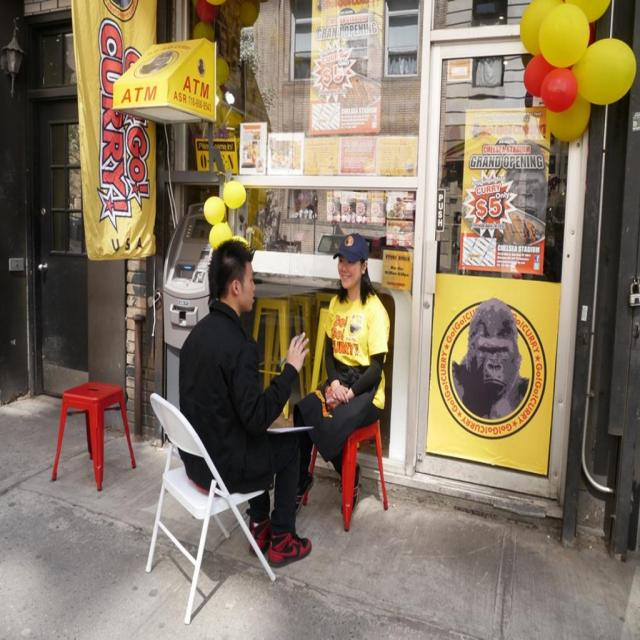nomask: (337, 251, 361, 288), (238, 262, 255, 312)
